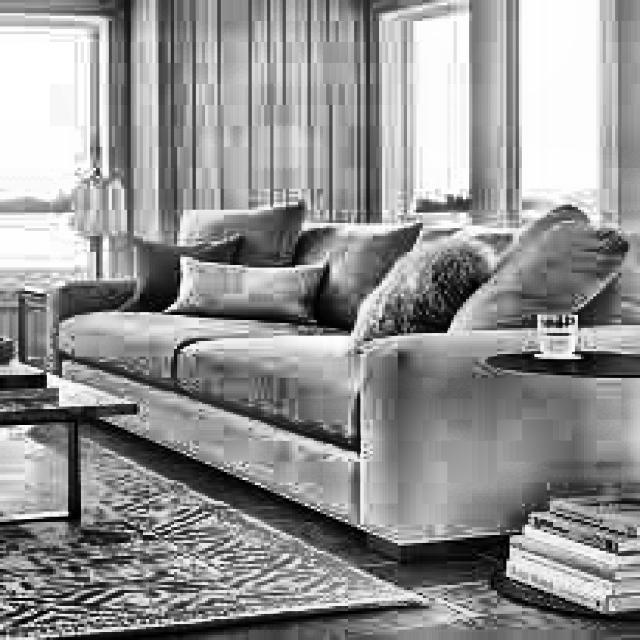sofa: (49, 215, 640, 438)
